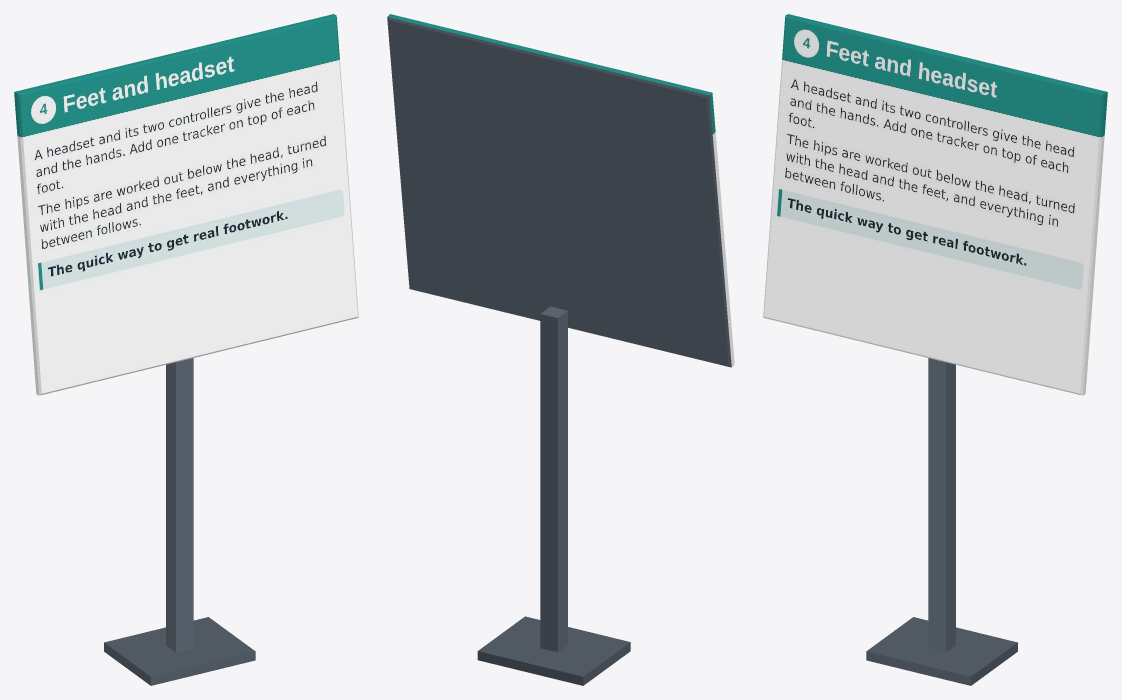
Rendered from 04-feet-and-headset.glb.
3 views of the same model, side by side, from view 1: azimuth 30°, elevation 25°; view 2: azimuth 150°, elevation 25°; view 3: azimuth 330°, elevation 25° (orthographic).
Visible parts, largest first — view 1: board; view 2: board; view 3: board.
Part boxes in pixels (x1,y1,x2,y2): board: (14,14,358,685); board: (387,14,734,685); board: (763,14,1107,685).
Bounding box in the file's own units: 1.1 × 1.97 × 0.28.
Materials: 1 (1 with a texture image).
